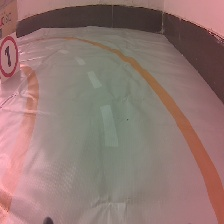limit: (1, 34, 22, 82)
